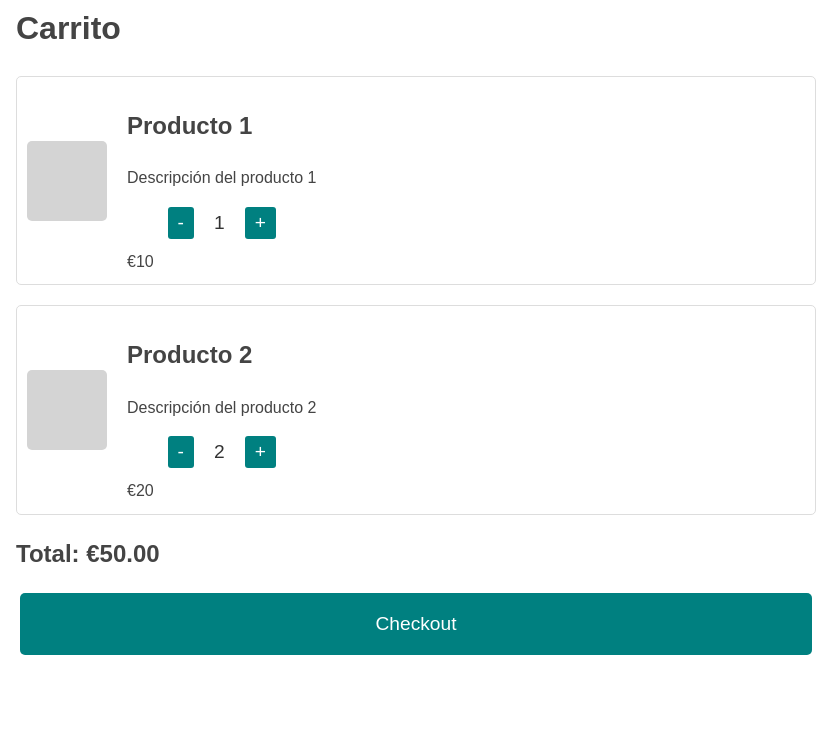
Test: CartPage › debería manejar el proceso de checkout correctamente si el usuario está autenticado
Click the button "Checkout" at point(416, 624), box top-left (20, 593), bottom-right (812, 655)
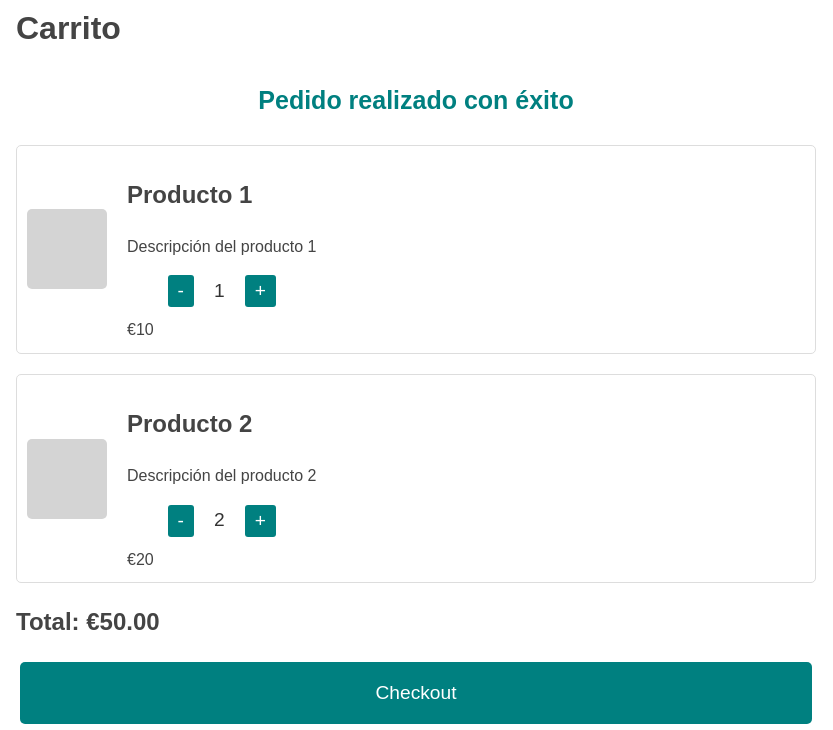
expect the text "Pedido realizado con éxito" is shown: met, box top-left (258, 86), bottom-right (574, 114)
